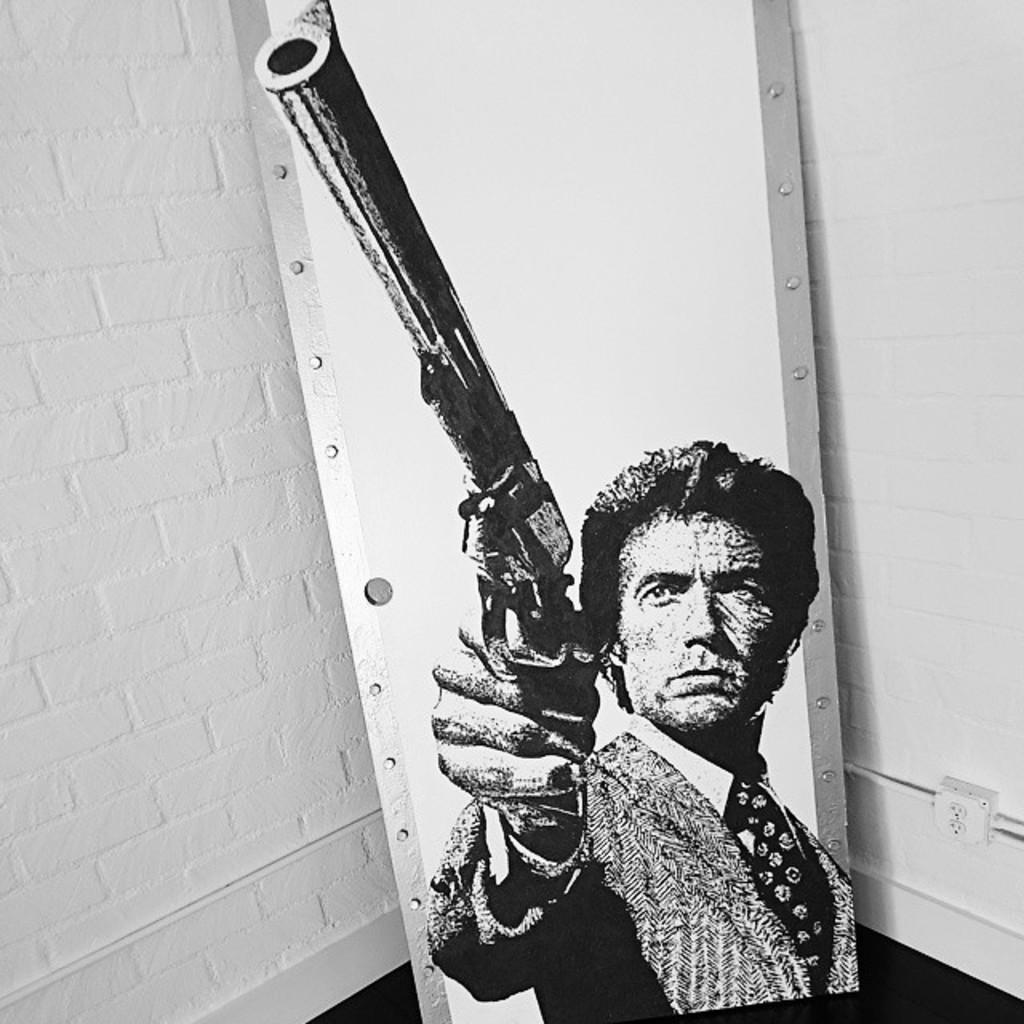Shotgun: (250, 0, 602, 822)
